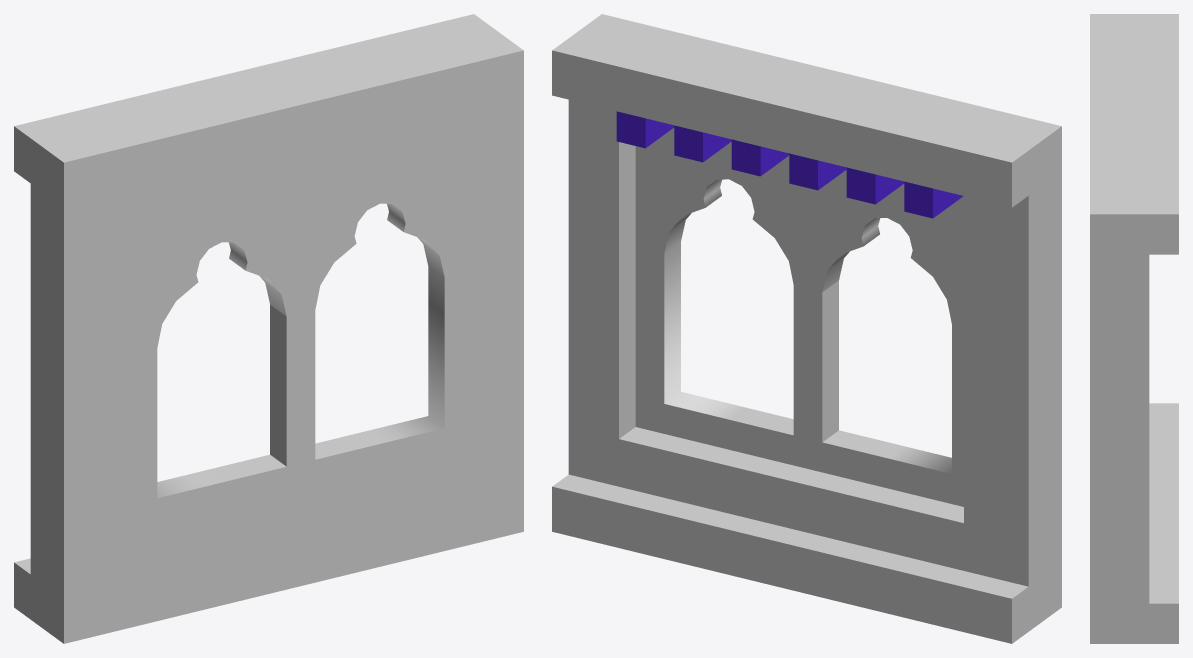
File: SM_WindowWall_a.fbx
3 renders of one model, left to right at view 1: azimuth 30°, elevation 25°; view 2: azimuth 150°, elevation 25°; view 3: azimuth 270°, elevation 25°, orthographic. The views are drawn at different scales.
Parts seen in each view (by area): view 1: WindowWall_a; view 2: WindowWall_a; view 3: WindowWall_a.
Boxes of the visible parts, left/top/right/bottom form: WindowWall_a: left=14, top=14, right=523, bottom=643; WindowWall_a: left=552, top=14, right=1061, bottom=643; WindowWall_a: left=1090, top=14, right=1178, bottom=643.
Bounding box in the file's own units: 400 × 400 × 75.
